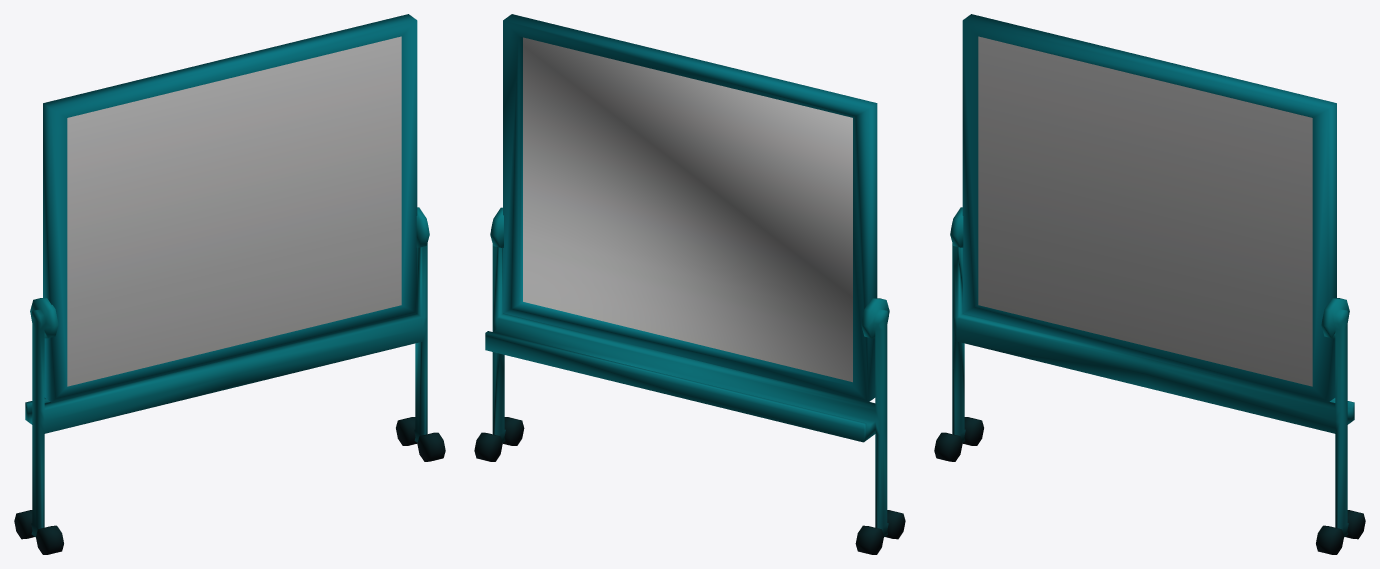
File: QuadroAndante.fbx
3 views of the same model, side by side, from view 1: azimuth 30°, elevation 25°; view 2: azimuth 150°, elevation 25°; view 3: azimuth 330°, elevation 25° (orthographic).
Parts seen in each view (by area): view 1: QuadroAndante; view 2: QuadroAndante; view 3: QuadroAndante.
Part boxes in pixels (x1=…): QuadroAndante: x1=14, y1=14, x2=445, y2=554; QuadroAndante: x1=474, y1=14, x2=905, y2=554; QuadroAndante: x1=934, y1=14, x2=1365, y2=554.
Size of the model in its own units: 117 by 124 by 18.4.
1 material, 1 textured.
